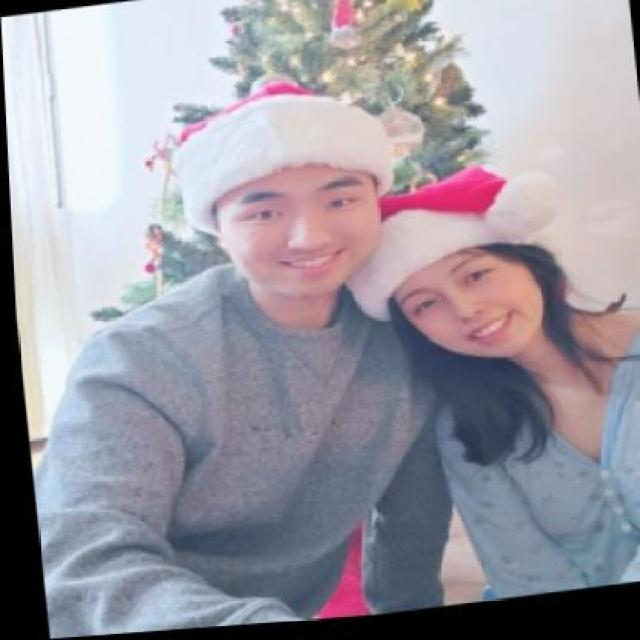hat: (333, 154, 570, 338), (164, 68, 399, 246)
